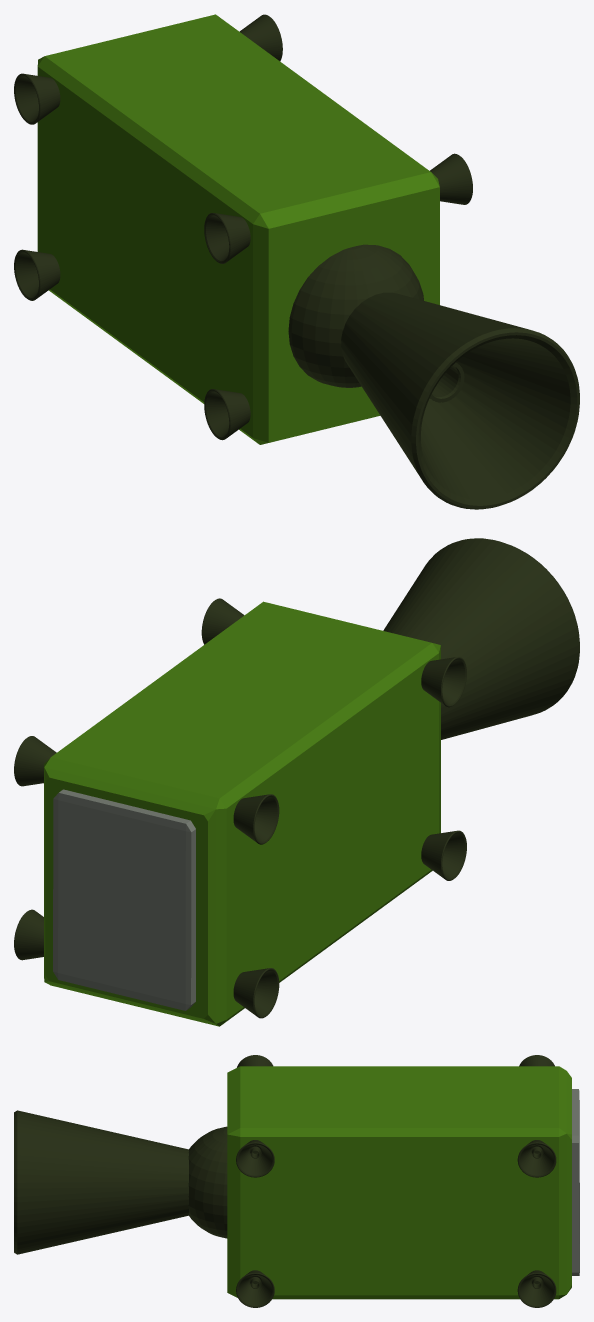
The model's file is missilebox 1.fbx.
3 renders of one model, top to bottom at view 1: azimuth 30°, elevation 25°; view 2: azimuth 150°, elevation 25°; view 3: azimuth 270°, elevation 25°, orthographic. The views are drawn at different scales.
Visible parts, largest first — view 1: 円柱.001, 球; view 2: 円柱.001, 立方体, 球; view 3: 円柱.001, 球, 立方体.
Part boxes in pixels (left/top/right/bottom): 円柱.001: left=14, top=14, right=472, bottom=444; 球: left=288, top=244, right=579, bottom=509; 円柱.001: left=14, top=598, right=466, bottom=1026; 立方体: left=53, top=789, right=195, bottom=1010; 球: left=383, top=538, right=579, bottom=739; 円柱.001: left=227, top=1055, right=571, bottom=1307; 球: left=14, top=1110, right=227, bottom=1254; 立方体: left=572, top=1089, right=579, bottom=1275.
Bounding box in the file's own units: 220 × 200 × 599.
